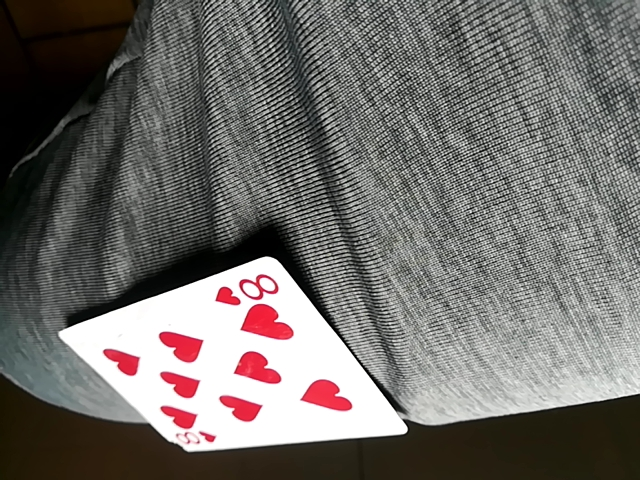hx 8: (55, 257, 410, 448)
